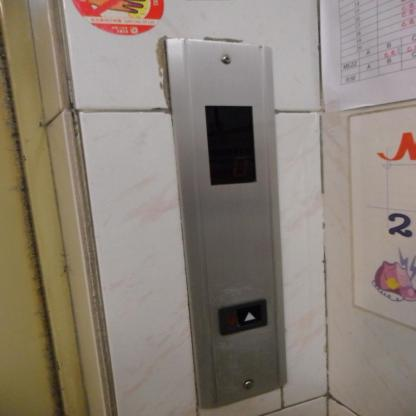led: (202, 103, 258, 188)
up: (214, 297, 270, 339)
